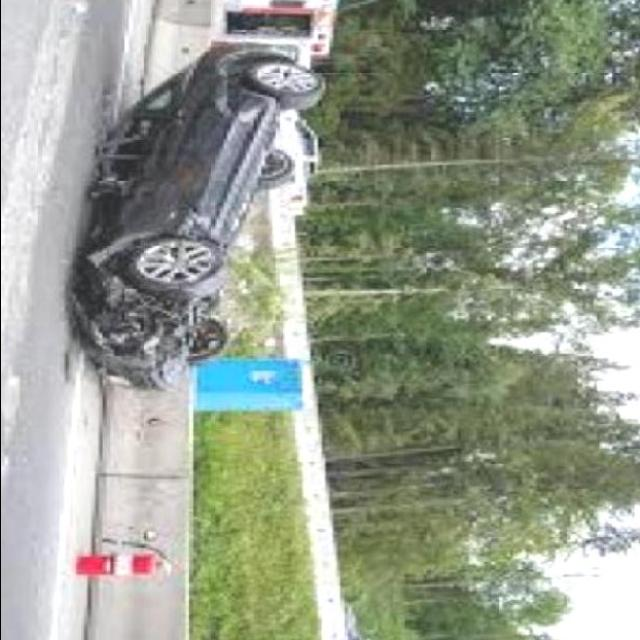accident: (64, 39, 328, 395)
